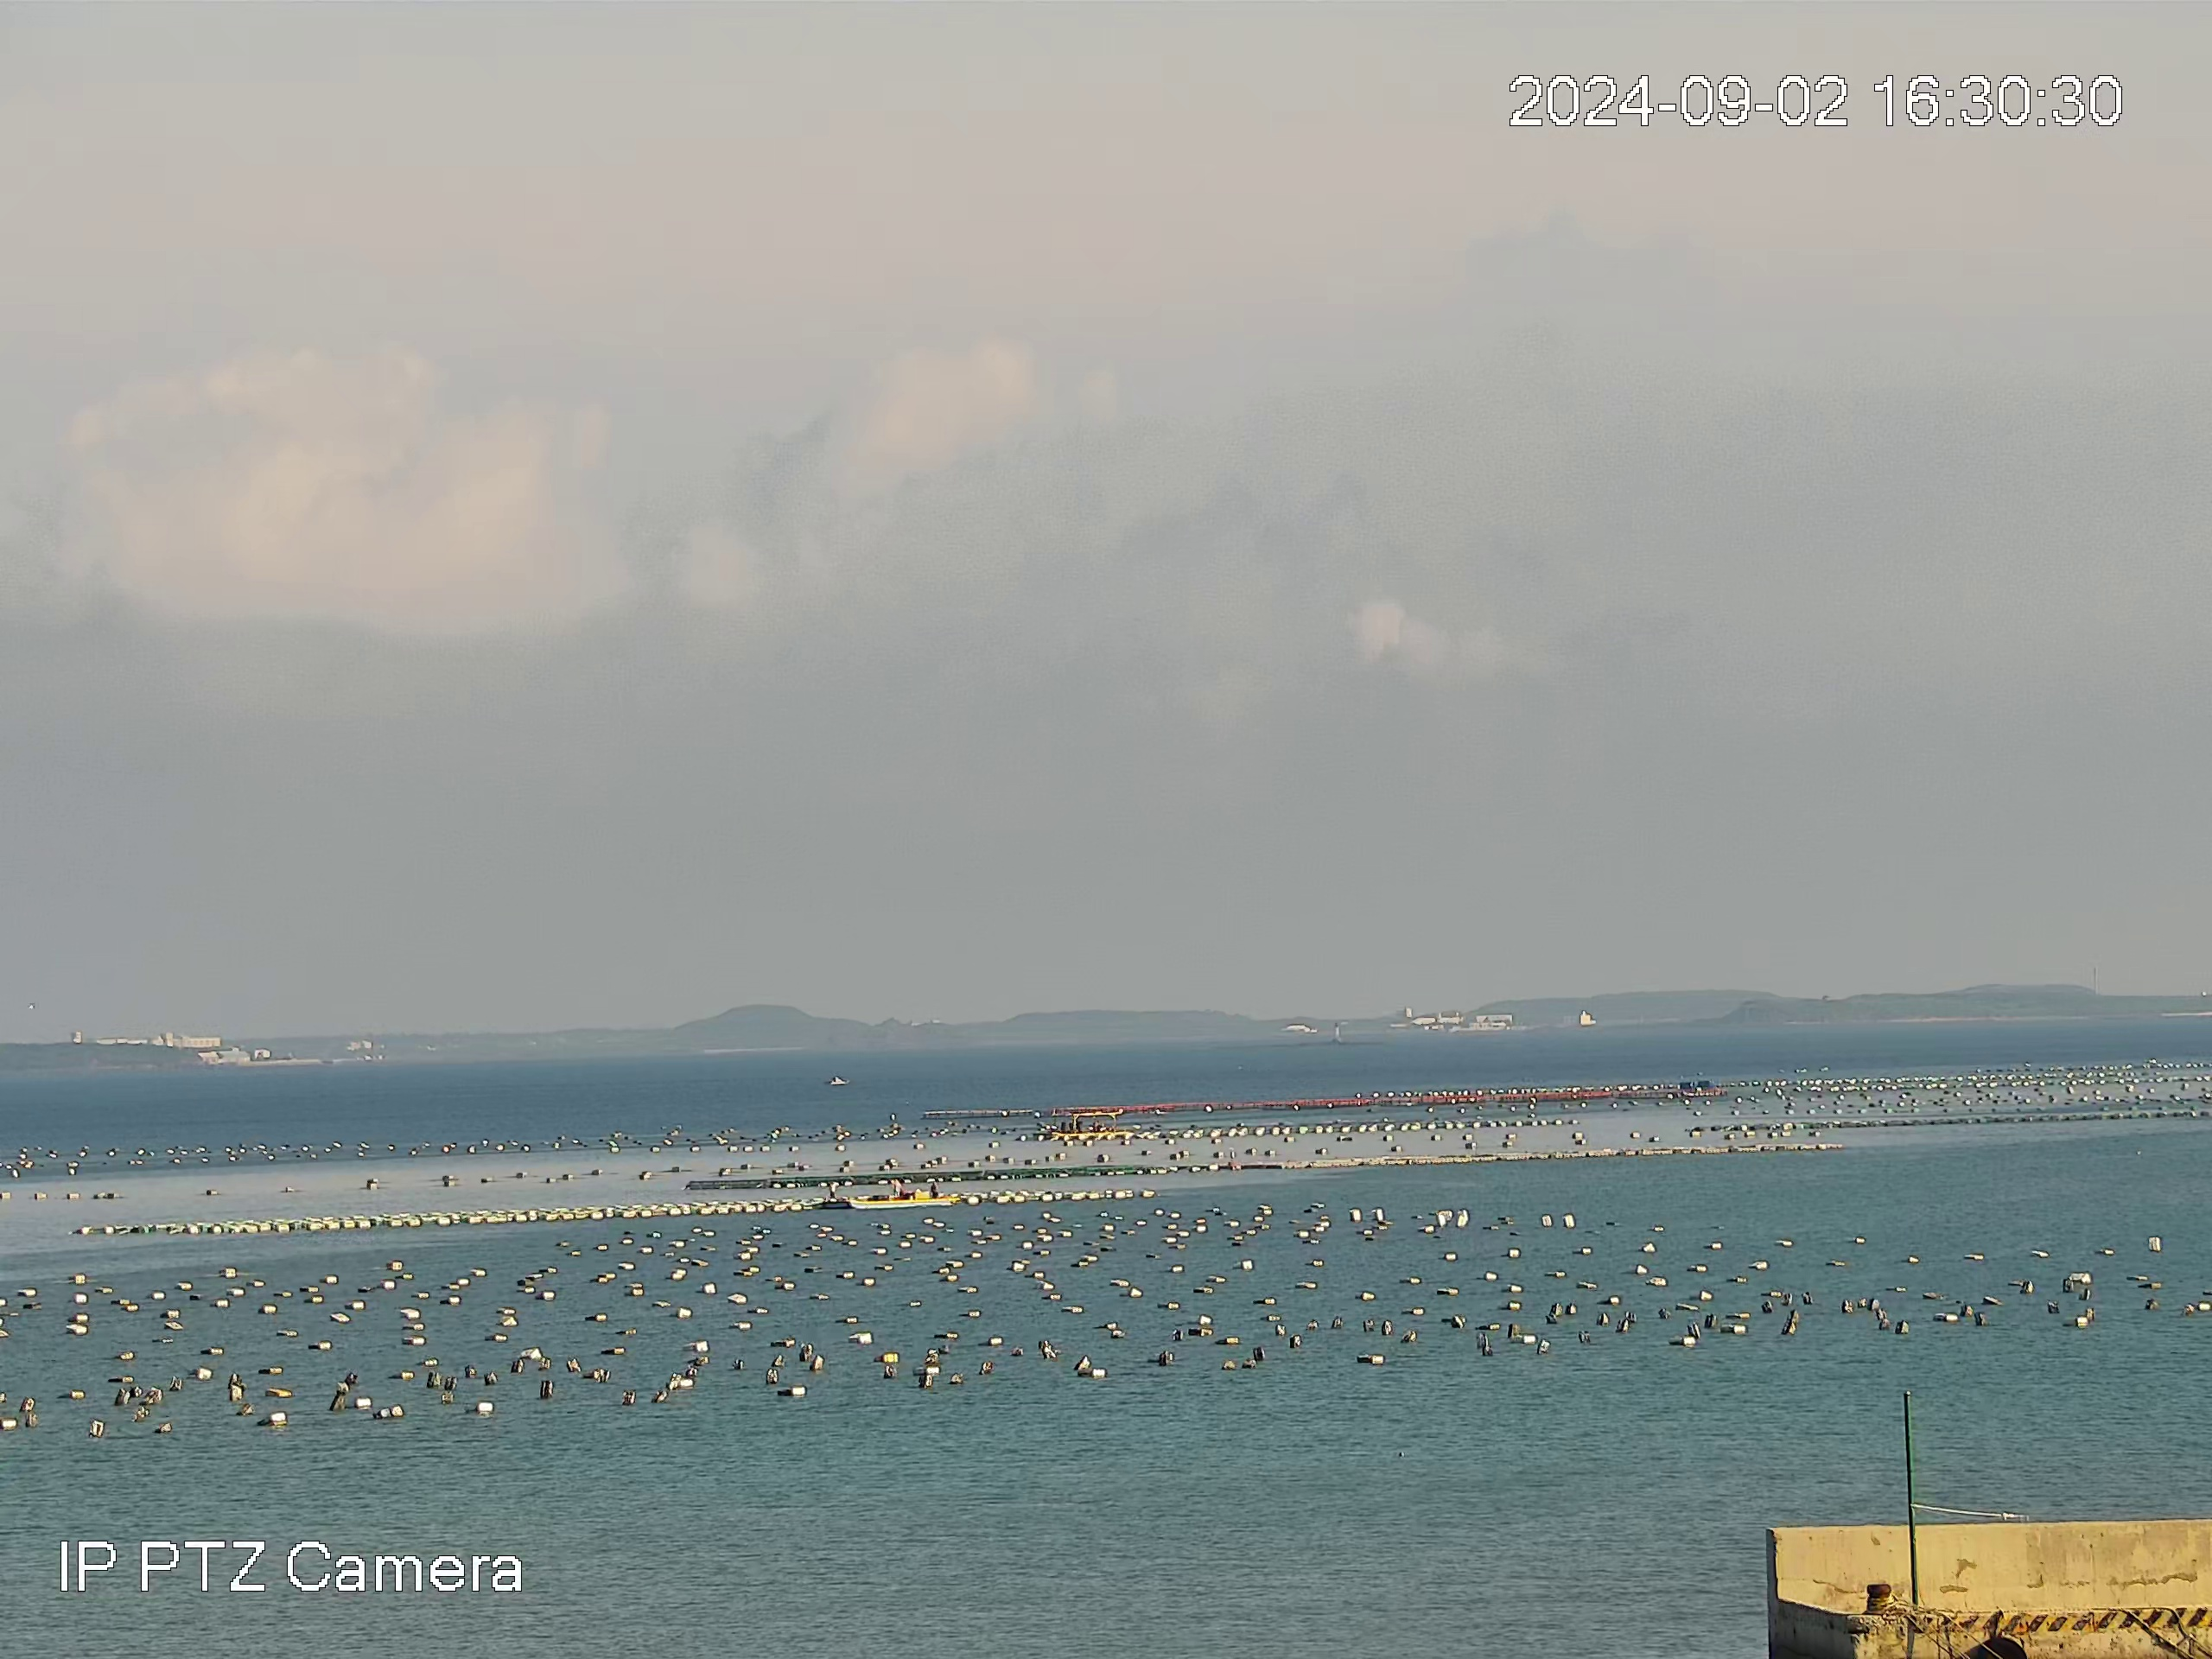boat: (845, 1176, 960, 1211), (1066, 1108, 1129, 1136)
